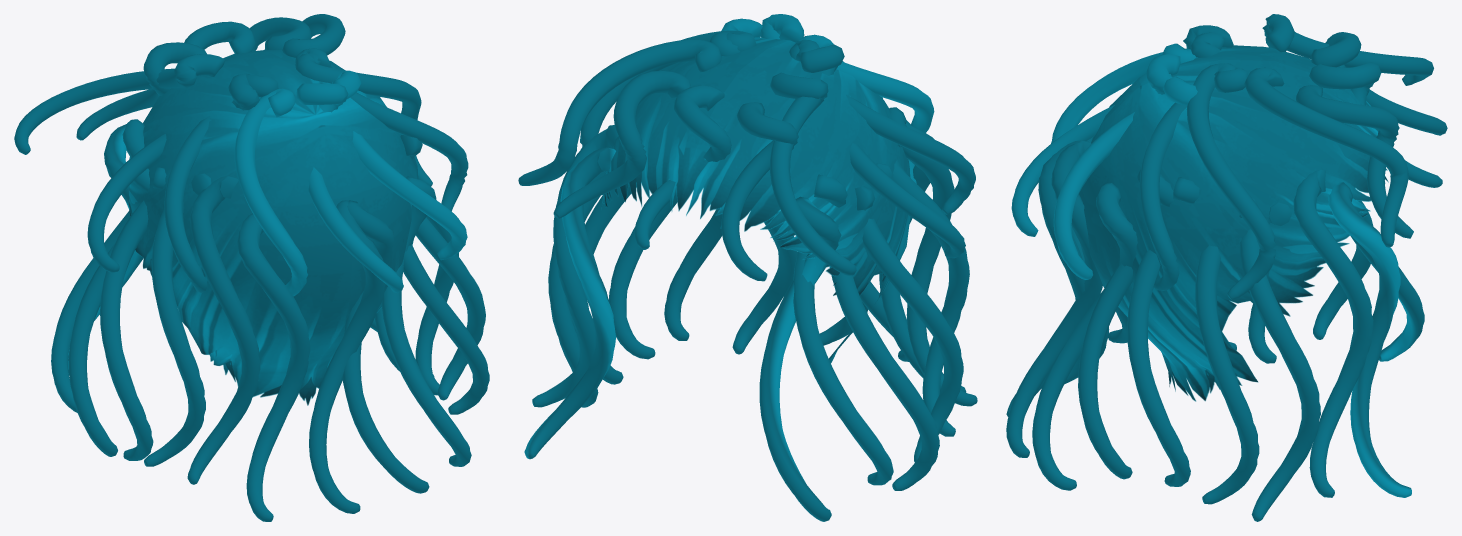
Rendered from hair.glb.
3 renders of one model, left to right at view 1: azimuth 30°, elevation 25°; view 2: azimuth 150°, elevation 25°; view 3: azimuth 270°, elevation 25°, orthographic. The views are drawn at different scales.
Parts seen in each view (by area): view 1: male-medium-waves-v1; view 2: male-medium-waves-v1; view 3: male-medium-waves-v1.
Part boxes in pixels (x1=…): male-medium-waves-v1: x1=14, y1=14, x2=489, y2=521; male-medium-waves-v1: x1=518, y1=14, x2=977, y2=521; male-medium-waves-v1: x1=1006, y1=14, x2=1447, y2=521.
Bounding box in the file's own units: 0.2966 × 0.2883 × 0.2959.
Materials: 1 (1 with a texture image).
